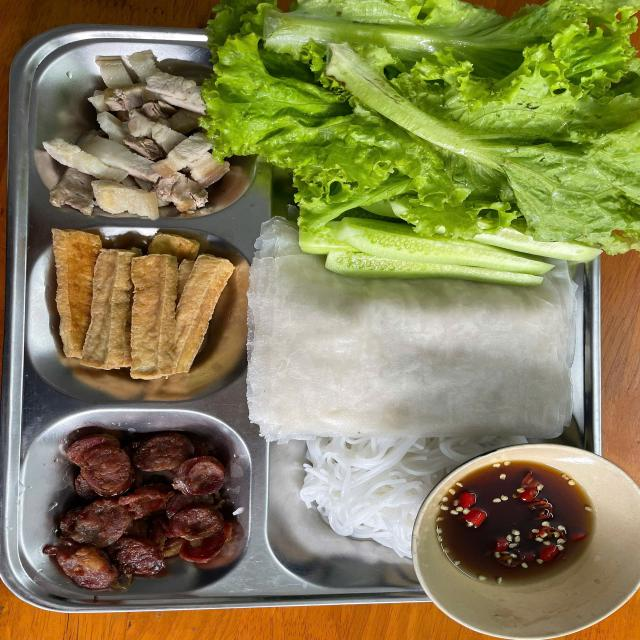banhtrang: (252, 277, 566, 433)
bun: (291, 440, 505, 555)
dauhuchien: (49, 235, 222, 379)
lapxuong: (44, 433, 238, 588)
san: (268, 21, 606, 253)
thitram: (32, 47, 237, 222)
